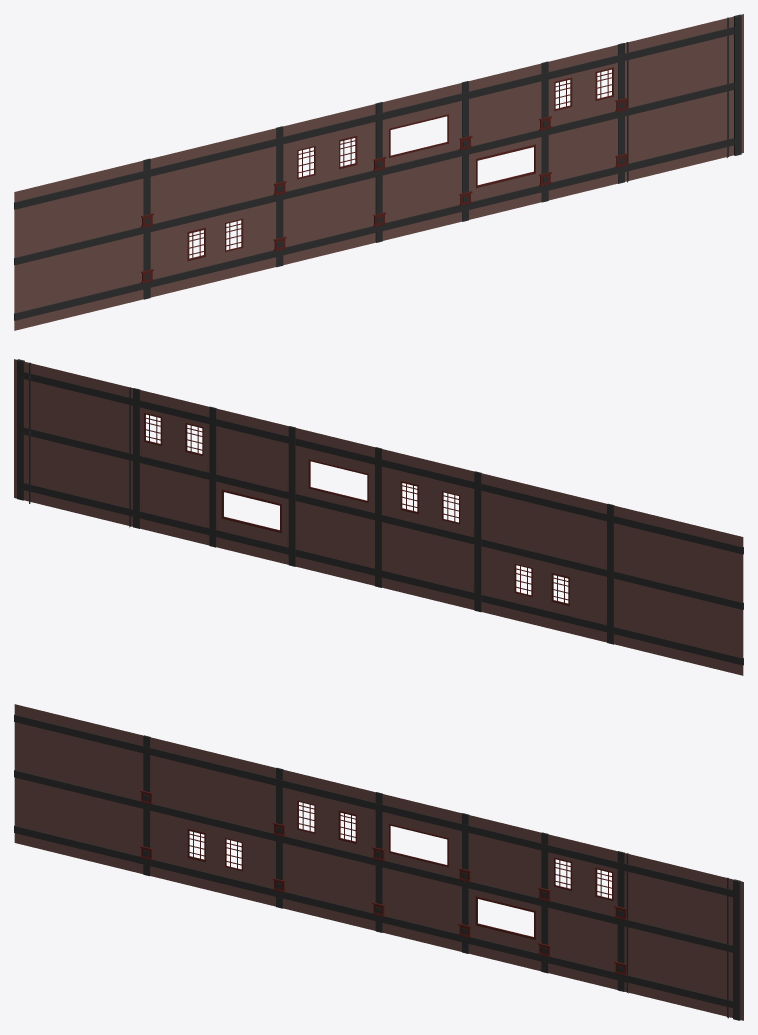
Rendered from background.obj.
3 views of the same model, one above another, from view 1: azimuth 30°, elevation 25°; view 2: azimuth 150°, elevation 25°; view 3: azimuth 330°, elevation 25° (orthographic).
Visible parts, largest first — view 1: 円柱, 立方体.028, 立方体.044; view 2: 円柱, 立方体.028, 立方体.044; view 3: 円柱, 立方体.028, 立方体.044.
Boxes of the visible parts, box(x1,y1,x2,y2) form: 円柱: box(14, 14, 743, 330); 立方体.028: box(14, 14, 741, 320); 立方体.044: box(141, 67, 628, 283); 円柱: box(14, 359, 743, 675); 立方体.028: box(17, 359, 743, 665); 立方体.044: box(141, 412, 605, 624); 円柱: box(14, 704, 743, 1020); 立方体.028: box(14, 714, 740, 1020); 立方体.044: box(140, 790, 626, 975).
Size of the model in its own units: 220 by 40.54 by 1.02.
Materials: 3 (3 with a texture image).
